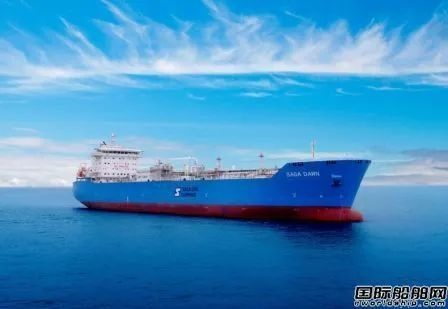Cargoship: (67, 134, 372, 226)
